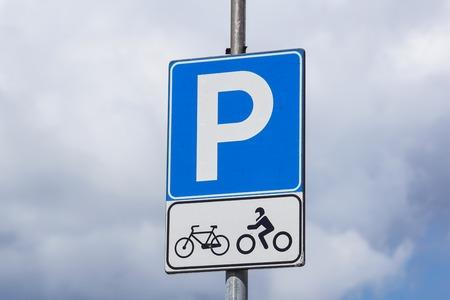parking: (171, 49, 304, 196)
